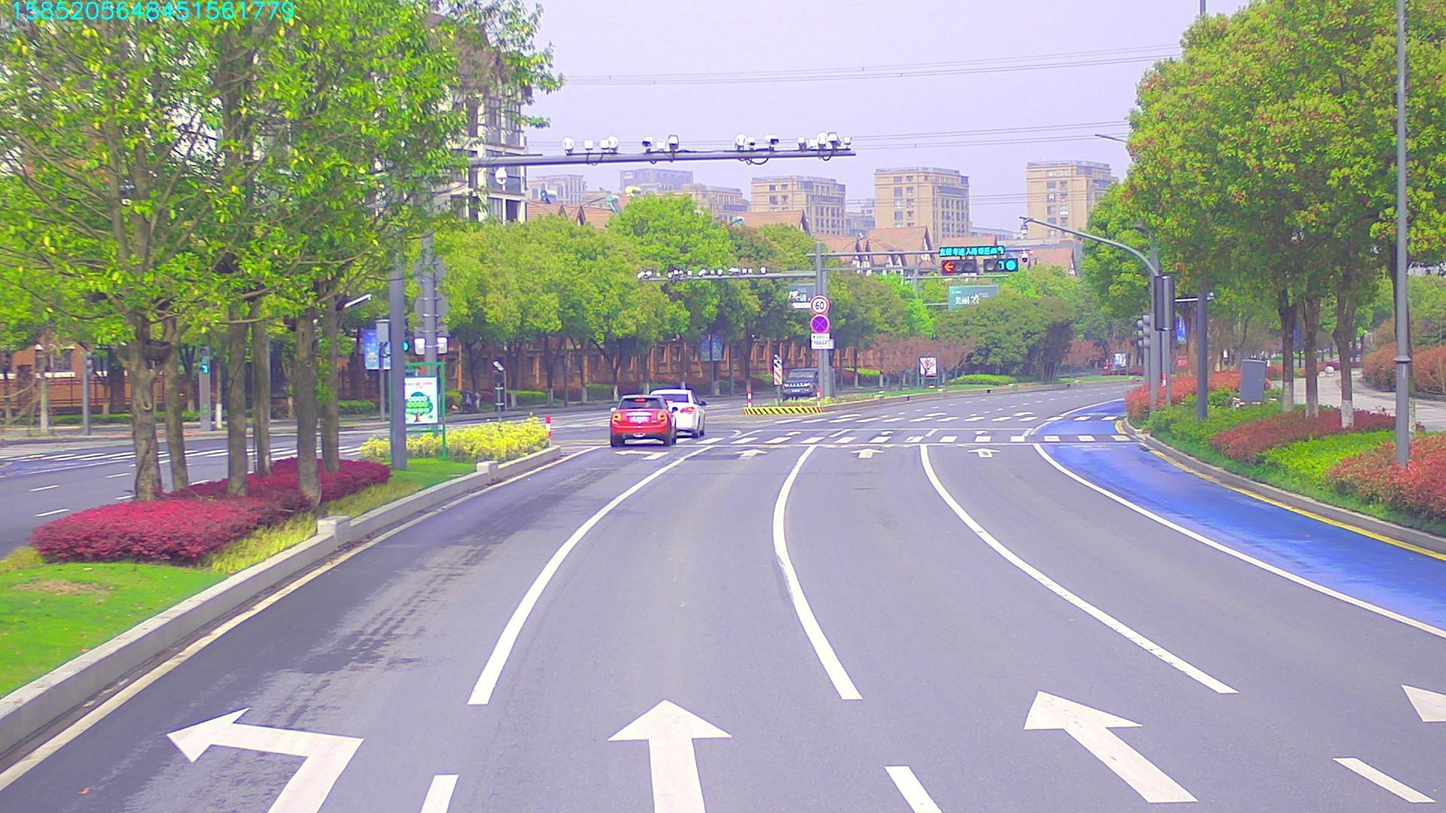green: (981, 257, 1013, 269)
red: (944, 261, 969, 270)
wait_on: (939, 244, 996, 257)
